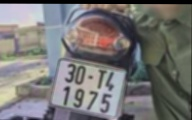Bien-so: (51, 57, 130, 120)
